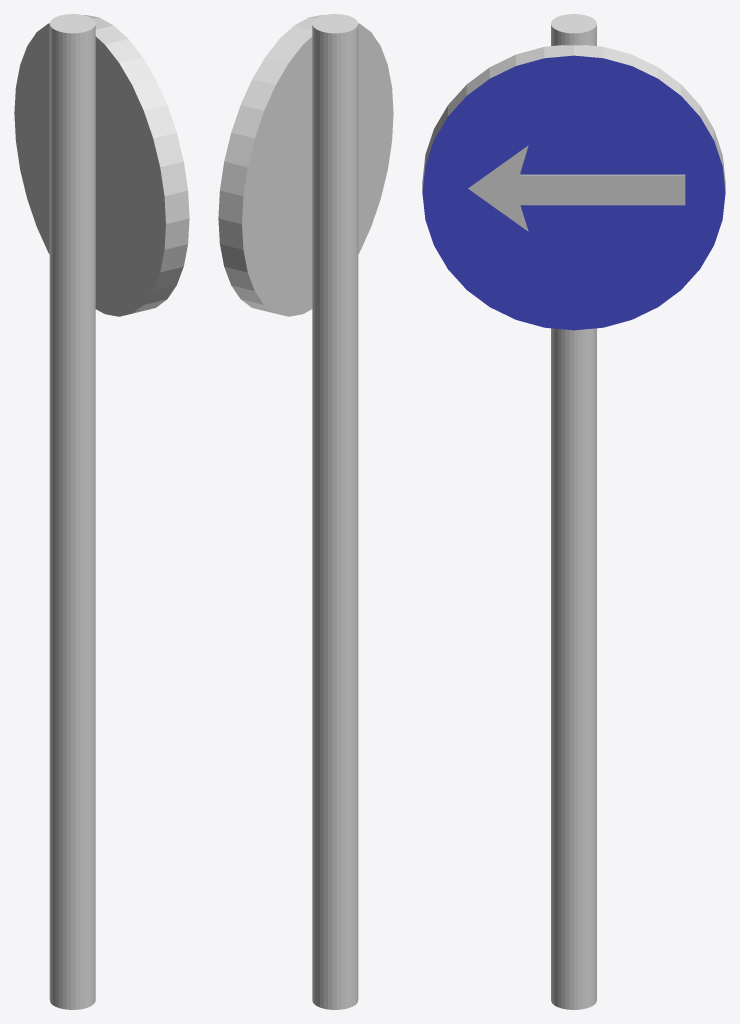
The model's file is SignTurnLeft.fbx.
The picture shows the model from 3 angles, left to right: view 1: azimuth 30°, elevation 25°; view 2: azimuth 150°, elevation 25°; view 3: azimuth 270°, elevation 25°; orthographic projection.
Visible parts, largest first — view 1: Cylinder.013, SignCircle.016; view 2: Cylinder.013, SignCircle.016; view 3: SignCircle.016, Cylinder.013, Cube.001.
Boxes of the visible parts, x1,y1,x2,y2 form: Cylinder.013: (49,14,95,1009); SignCircle.016: (14,15,189,316); Cylinder.013: (312,14,358,1009); SignCircle.016: (218,15,393,316); SignCircle.016: (422,45,725,330); Cylinder.013: (551,14,596,1009); Cube.001: (468,145,685,231).
Bounding box in the file's own units: 111 × 1671 × 470.
